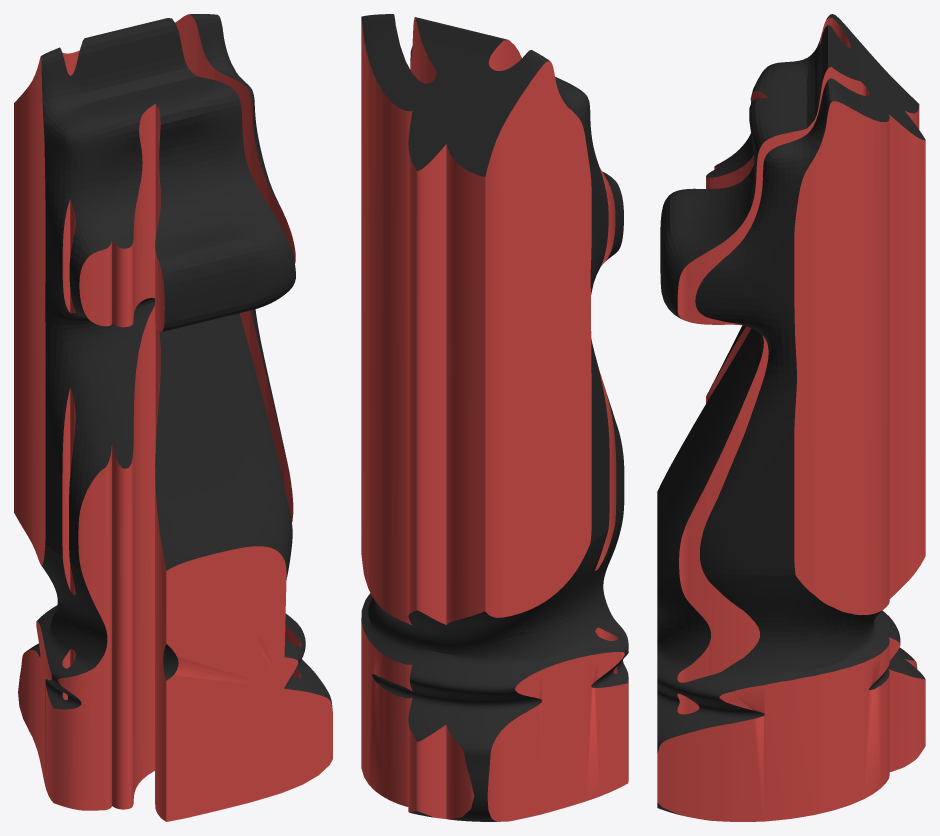
The model's file is Black_Knight.fbx.
The picture shows the model from 3 angles, left to right: view 1: azimuth 30°, elevation 25°; view 2: azimuth 150°, elevation 25°; view 3: azimuth 270°, elevation 25°; orthographic projection. The views are drawn at different scales.
Visible parts, largest first — view 1: Black_Knight; view 2: Black_Knight; view 3: Black_Knight.
Boxes of the visible parts, bbox=[...] form: Black_Knight: bbox=[14, 14, 332, 821]; Black_Knight: bbox=[361, 14, 628, 821]; Black_Knight: bbox=[657, 14, 925, 821].
Size of the model in its own units: 40.77 by 39.95 by 118.
